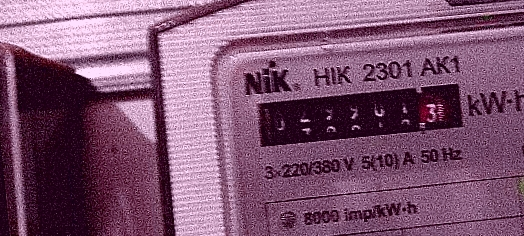0: (370, 92, 386, 119), (270, 109, 288, 131)
1: (395, 91, 410, 115)
2: (295, 103, 313, 124)
3: (423, 99, 438, 122)
9: (345, 97, 361, 120), (320, 99, 335, 122)
screen: (242, 71, 475, 157)
